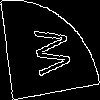W: (25, 25, 72, 79)
